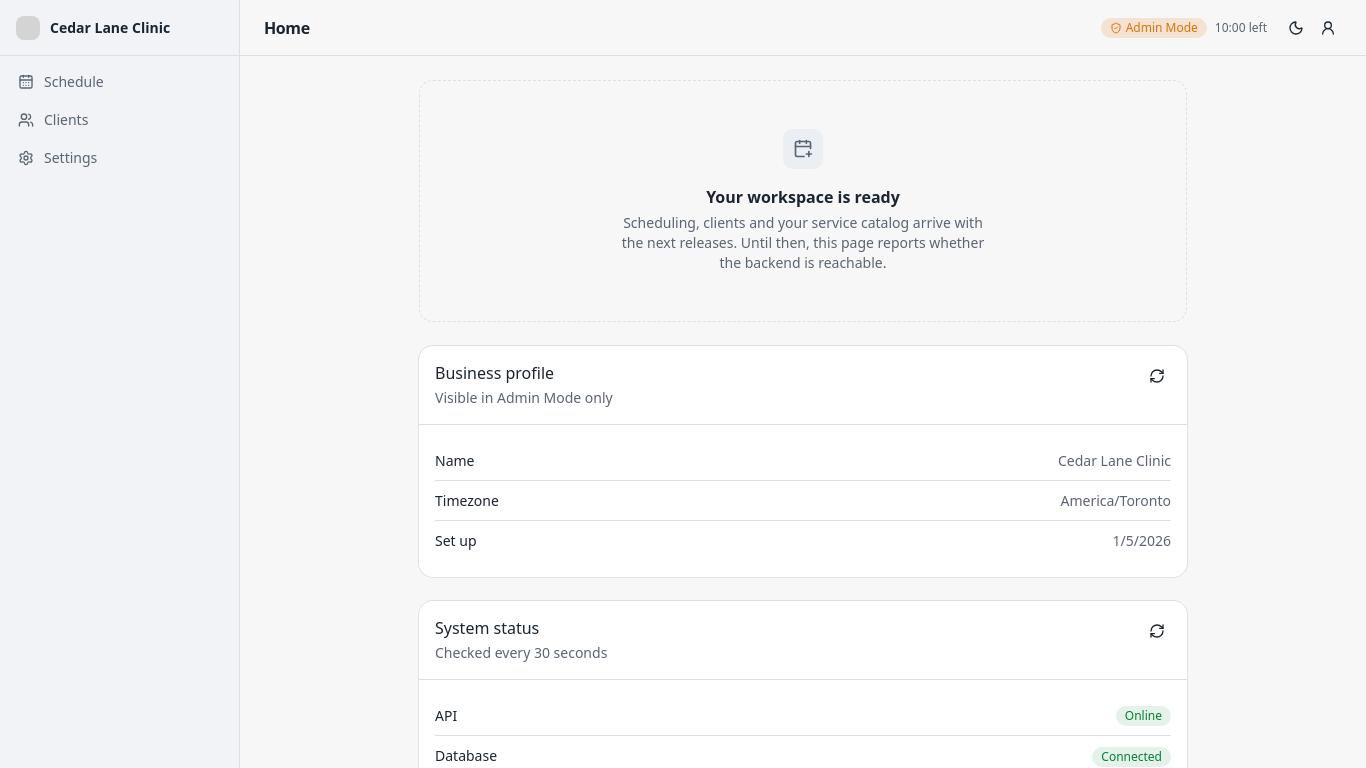
it: a 403 from an admin endpoint drops the UI to Staff Mode and says why
This screenshot has width=1366, height=768.
Expected: the text "Business profile" is shown, [435,362,554,384]
Click the button named "Refresh business profile".
click(1157, 376)  # box [1143,362,1171,390]
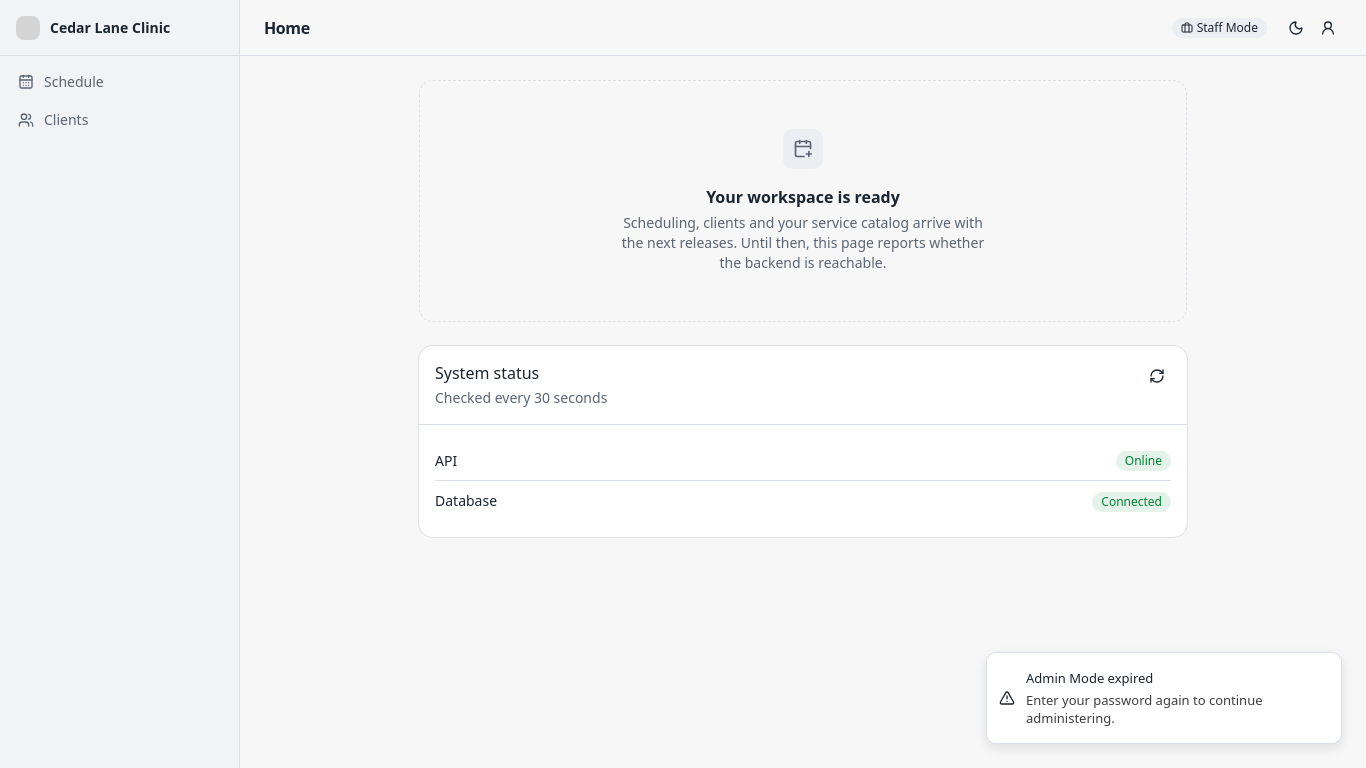
Expected: the text "Admin Mode expired" is shown, [1026,669,1153,687]
Expected: the button with aria-label "Switch mode" reads "Staff Mode", [1161,14,1278,42]
Expected: the text "Business profile" is gone
